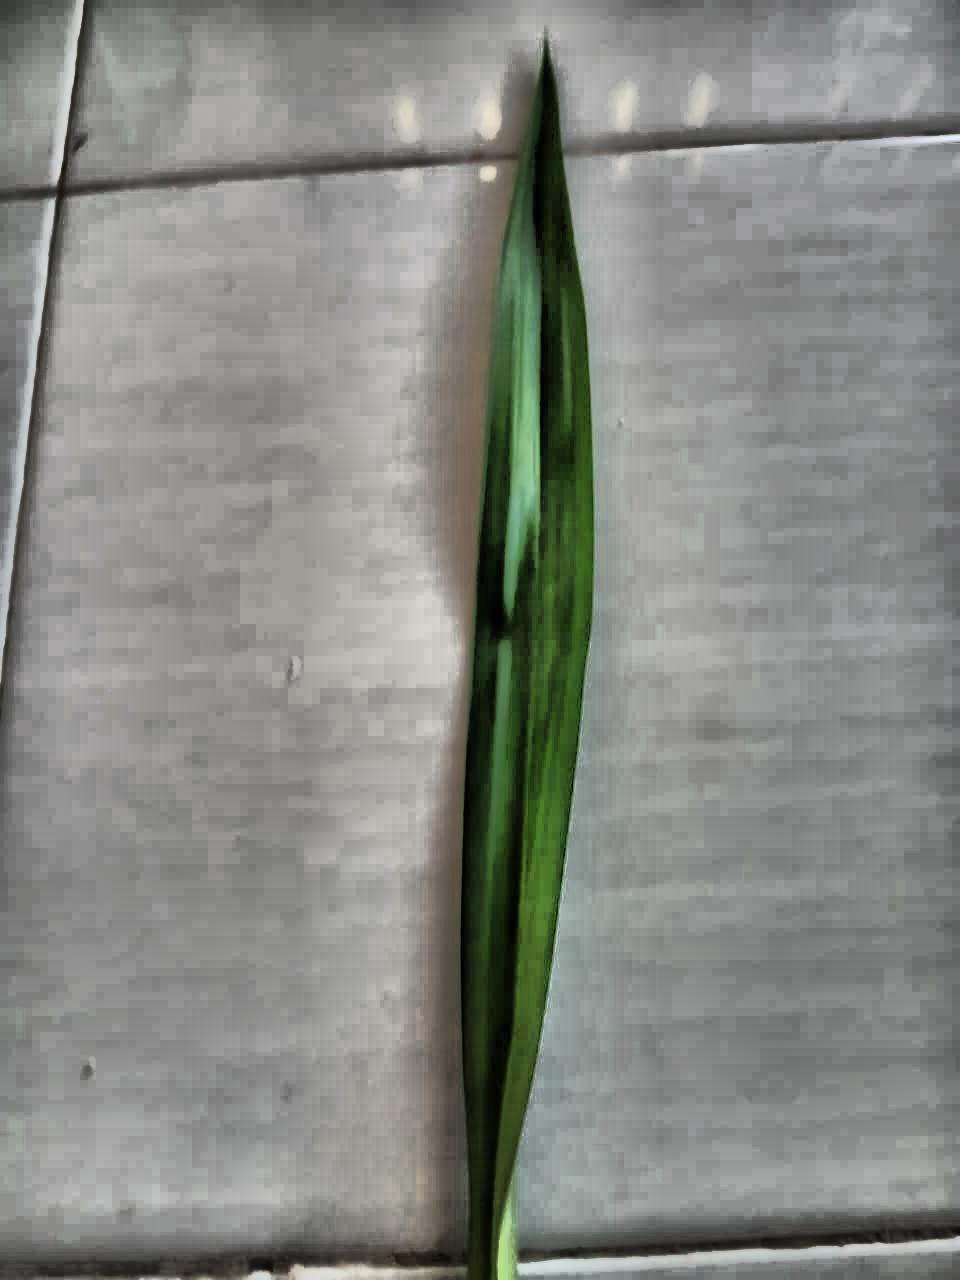daun pandan: (460, 43, 593, 1279)
